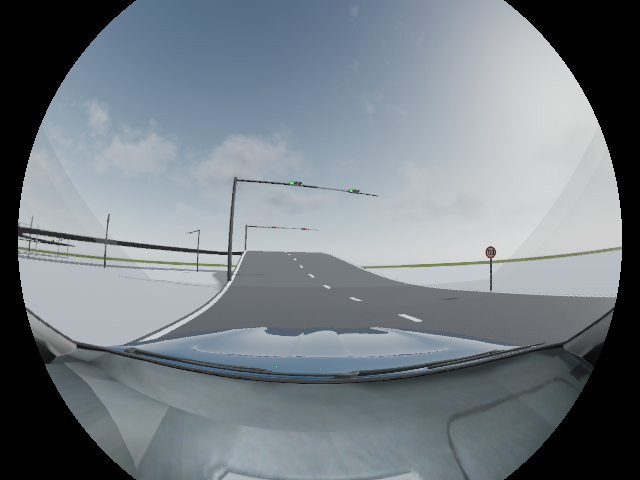Green Light: (288, 179, 303, 188), (347, 187, 361, 195)
